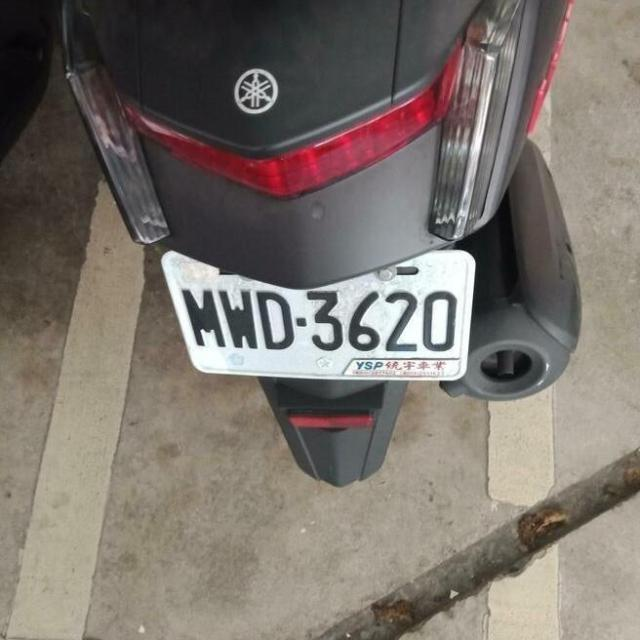W: (152, 236, 483, 396)
